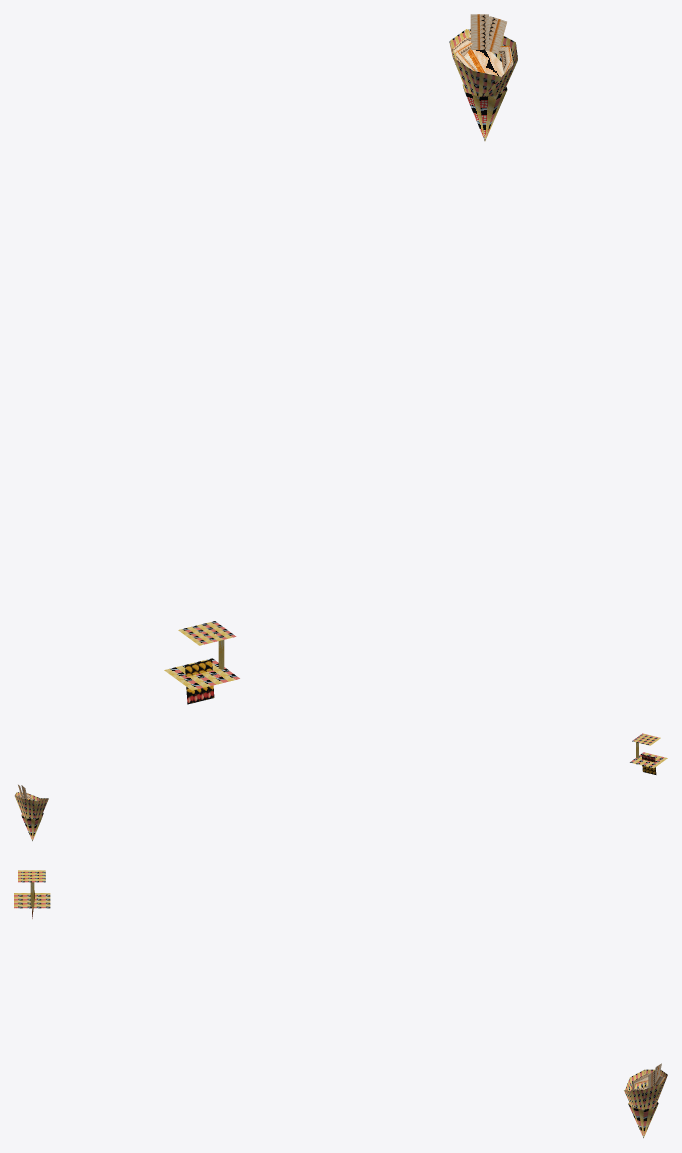
The model's file is 1171u_crep00_mis.gltf.
3 views of the same model, one above another, from view 1: azimuth 30°, elevation 25°; view 2: azimuth 150°, elevation 25°; view 3: azimuth 270°, elevation 25° (orthographic). The views are drawn at different scales.
Visible parts, largest first — view 1: 1171u_crep00_mis; view 2: 1171u_crep00_mis; view 3: 1171u_crep00_mis.
Part boxes in pixels (x1,y1,x2,y2): 1171u_crep00_mis: (164,14,517,704); 1171u_crep00_mis: (14,733,667,840); 1171u_crep00_mis: (14,870,667,1137).
Bounding box in the file's own units: 5.94 × 1 × 6.42.
Materials: 4 (4 with a texture image).
